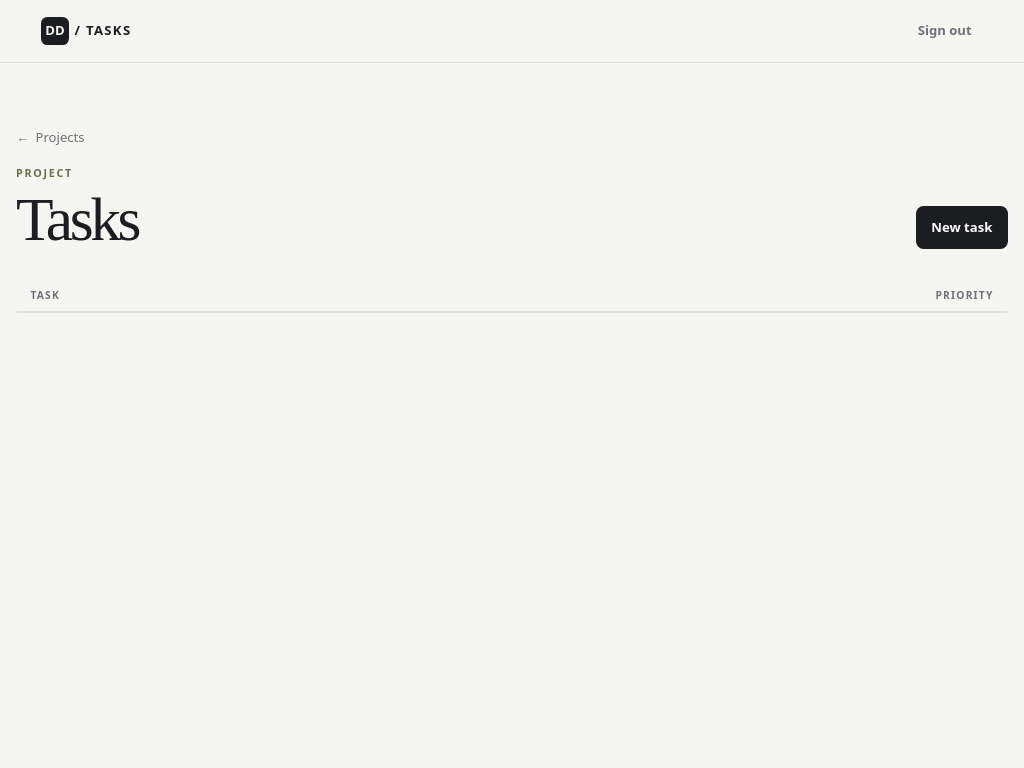
Test: product route shell › posts high, not High, when creating a High task
Click the button "New task" at [962, 228], box [916, 206, 1008, 249]
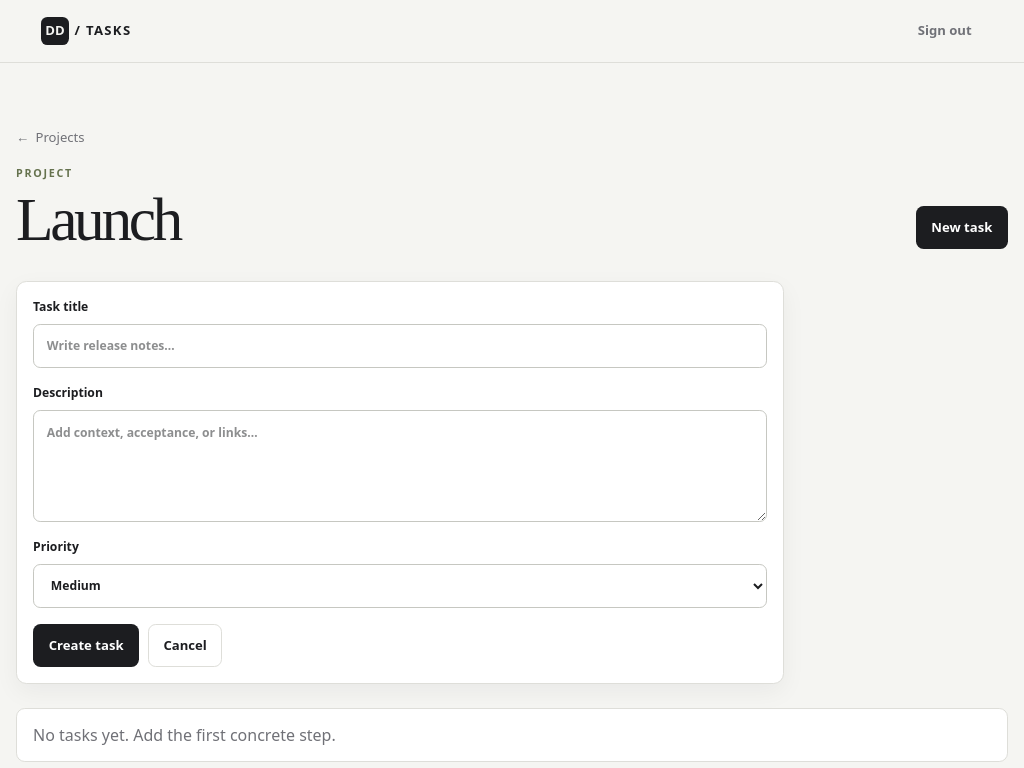
Now the dropdown labelled "Priority" shows "Medium", box [33, 564, 767, 608]
Type "Ship notes" into the field with test id "task-title" at [400, 346], box [33, 324, 767, 368]
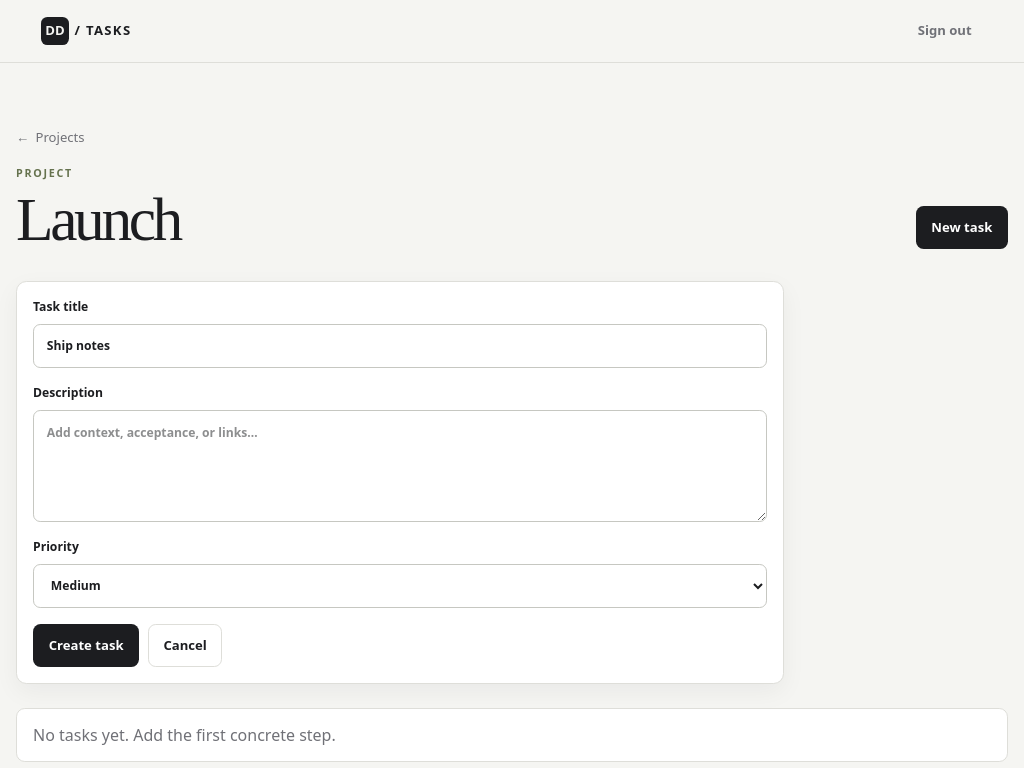
Select "High" in the dropdown labelled "Priority" at [400, 586], box [33, 564, 767, 608]
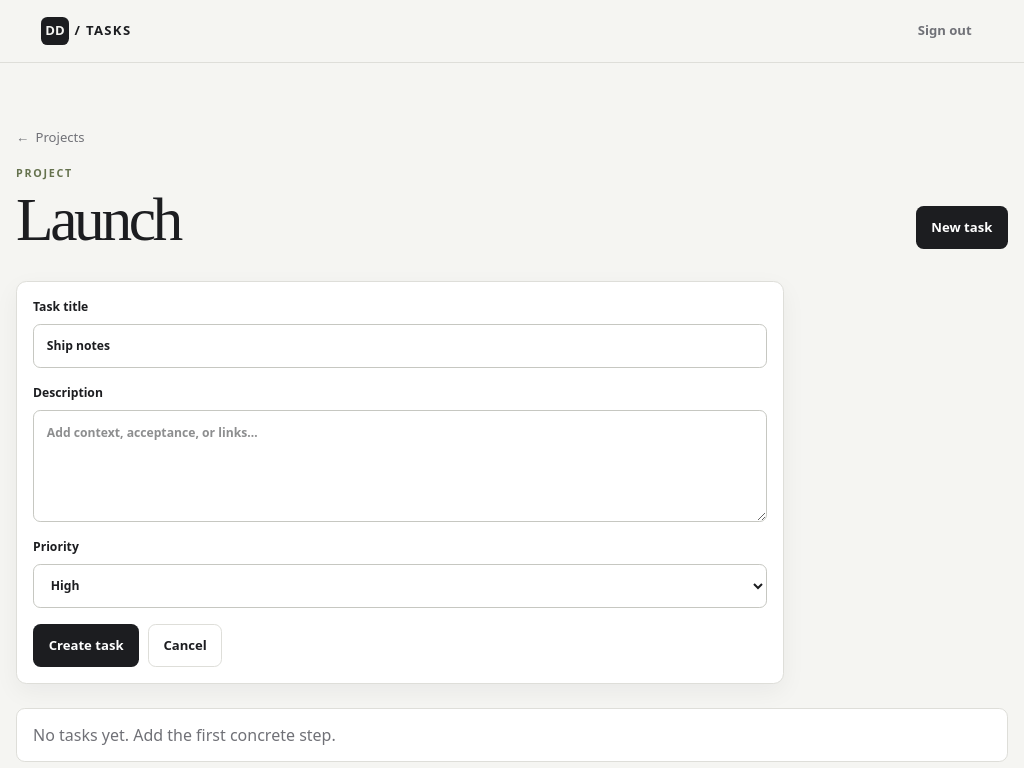
Click the button with test id "task-submit" at [86, 646], box [33, 624, 139, 667]
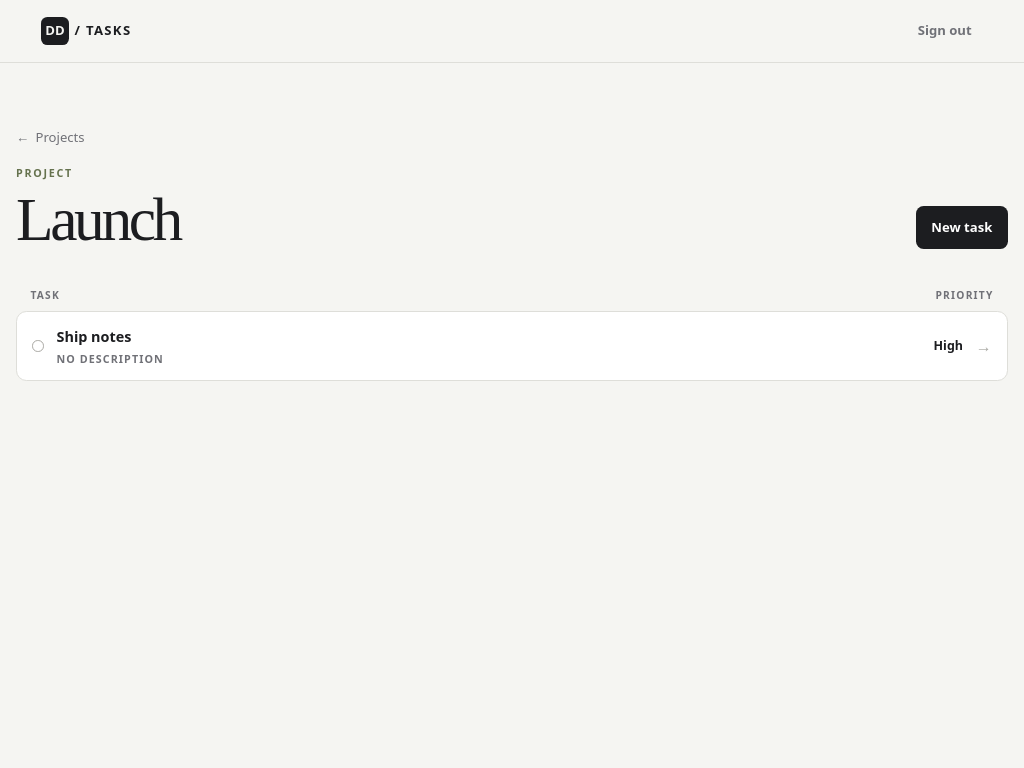
Now the text with class "task-priority" reads "High", box [934, 337, 963, 354]
